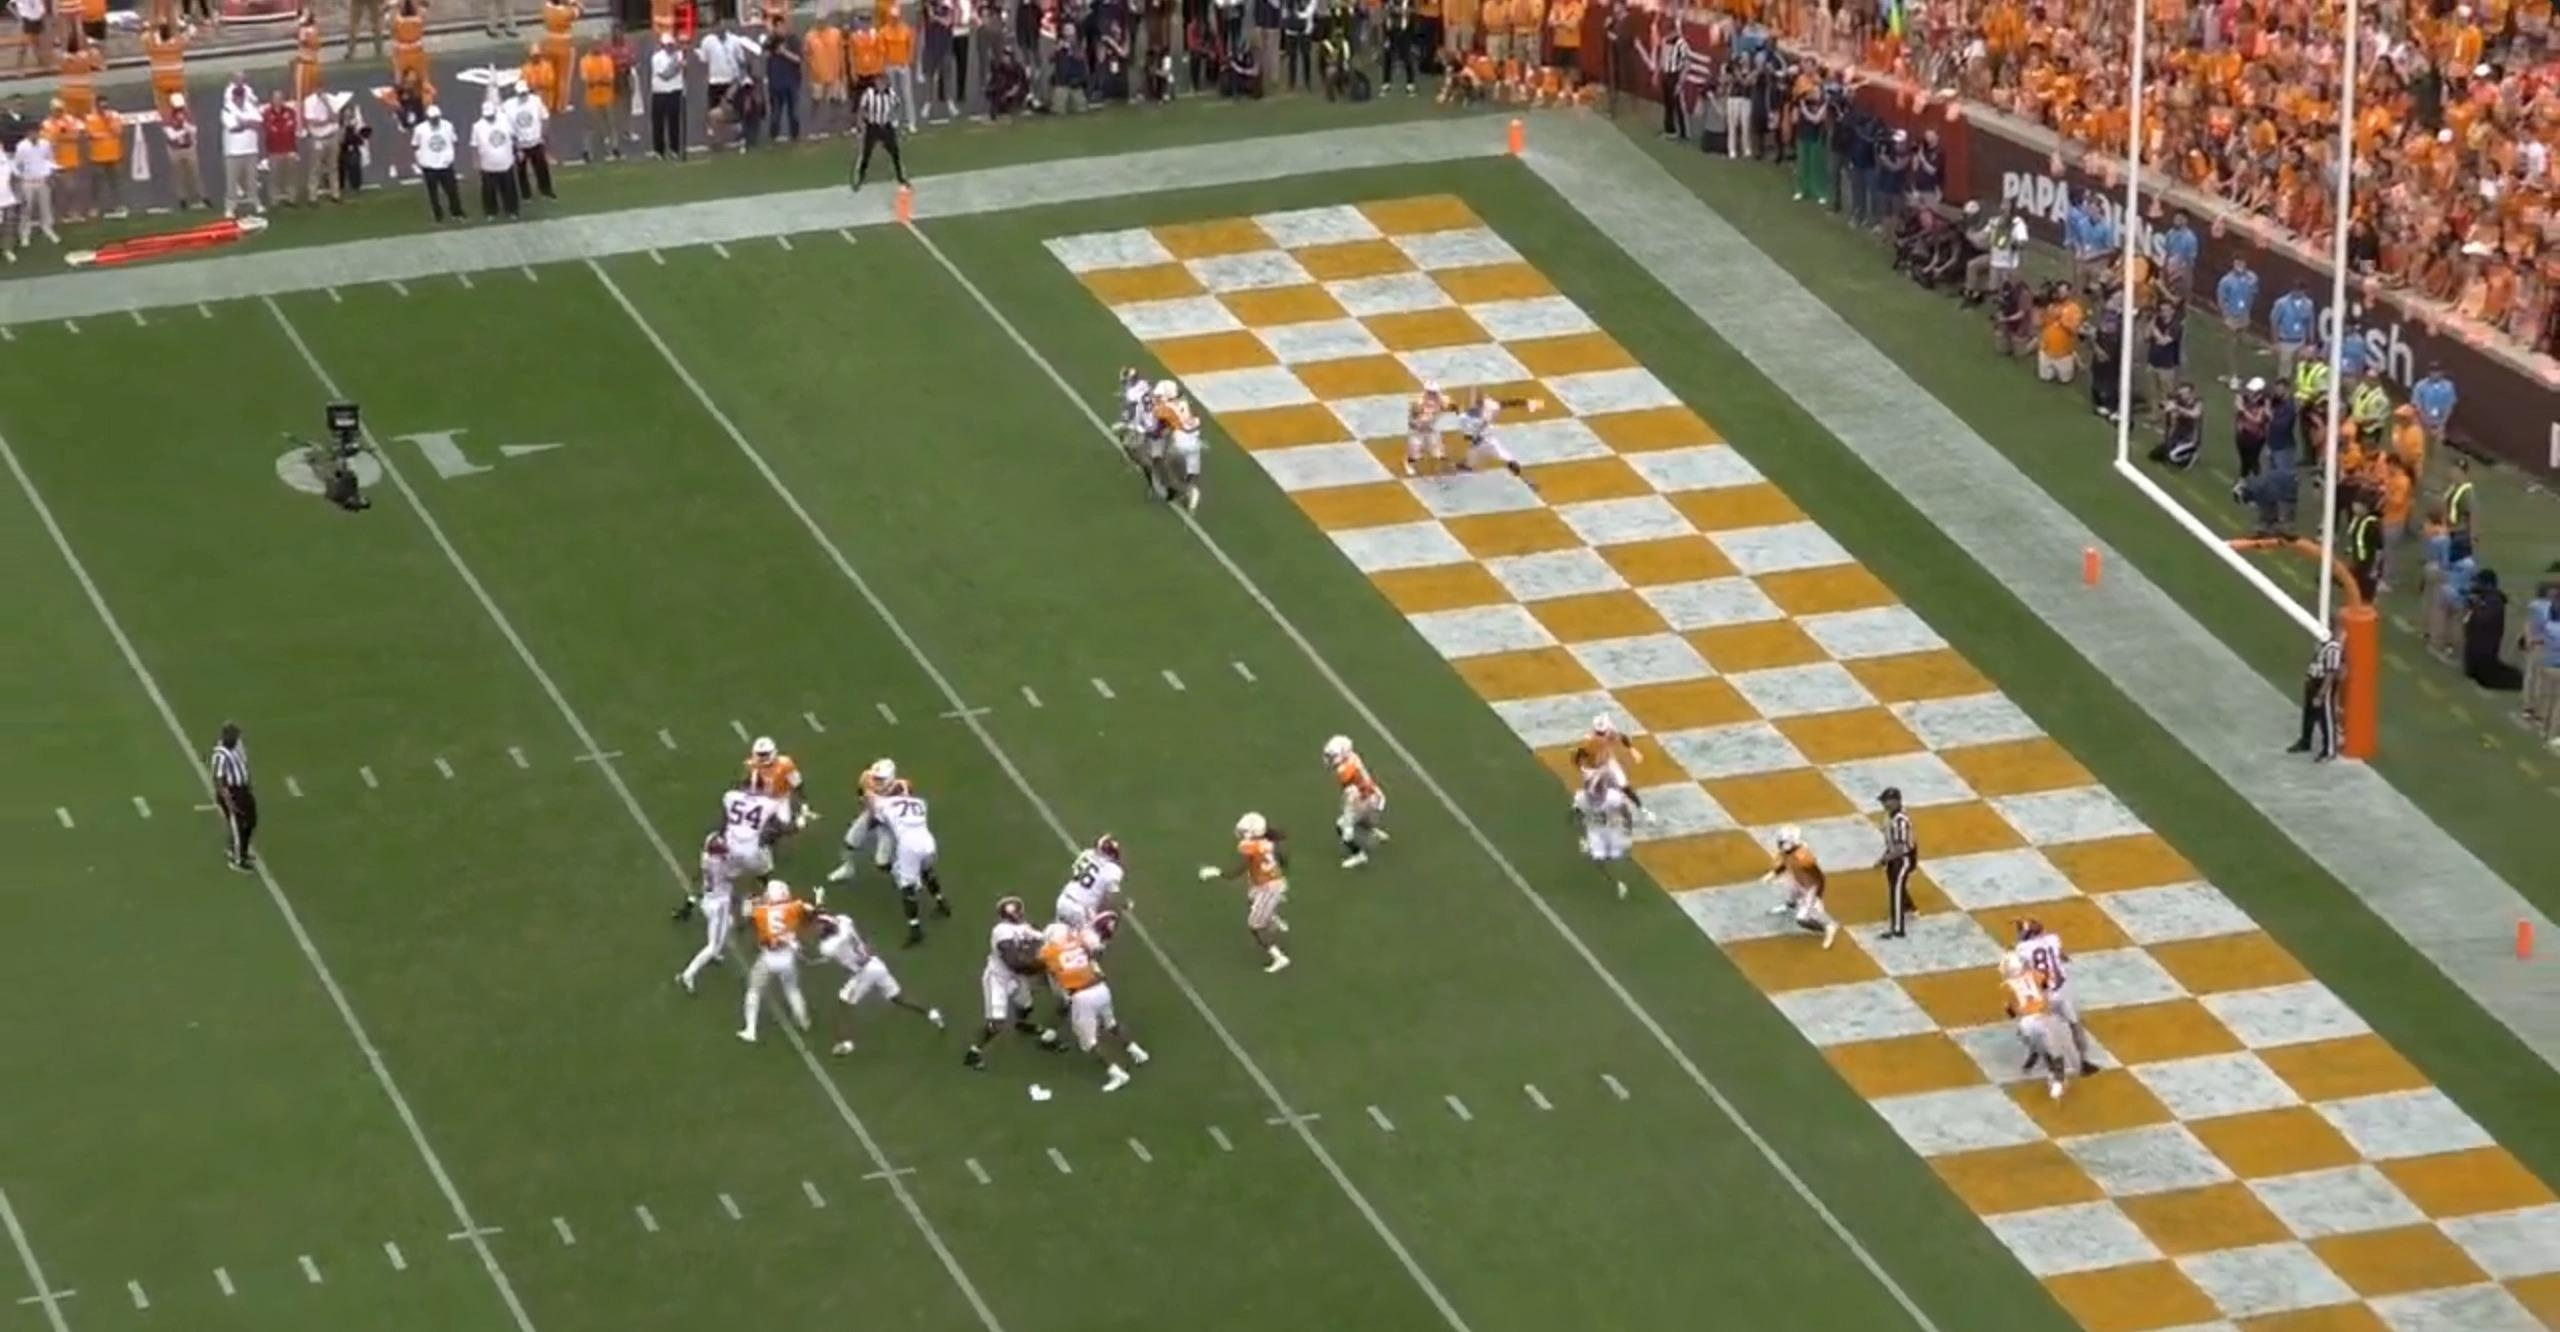defense: (1037, 918, 1148, 1082), (1209, 804, 1308, 979), (739, 885, 819, 1057), (810, 753, 908, 890), (1567, 702, 1645, 858), (1311, 731, 1384, 878), (1754, 822, 1835, 948), (2002, 950, 2068, 1104), (1152, 376, 1212, 521), (736, 730, 819, 829), (1406, 376, 1472, 484)
oline: (678, 782, 800, 929), (961, 898, 1053, 1077), (883, 773, 962, 950), (1055, 836, 1137, 948), (1071, 904, 1120, 967)
qb: (682, 835, 774, 1003)
ref: (200, 721, 266, 889), (1863, 776, 1926, 943), (839, 68, 909, 196)
skill: (806, 905, 950, 1056), (2010, 914, 2100, 1101), (1572, 749, 1641, 909), (1455, 386, 1548, 480), (1105, 358, 1164, 484)
